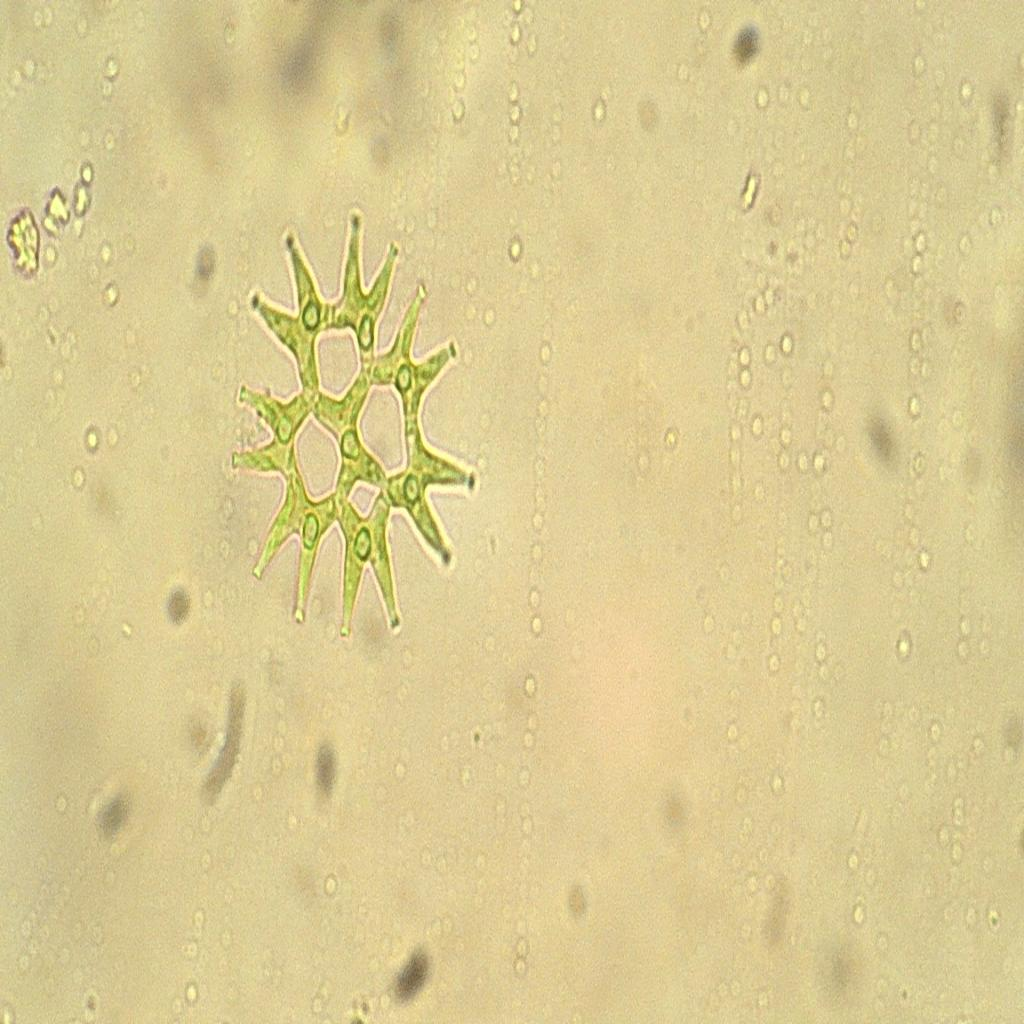Pediastrum_75T: (218, 201, 496, 659)
